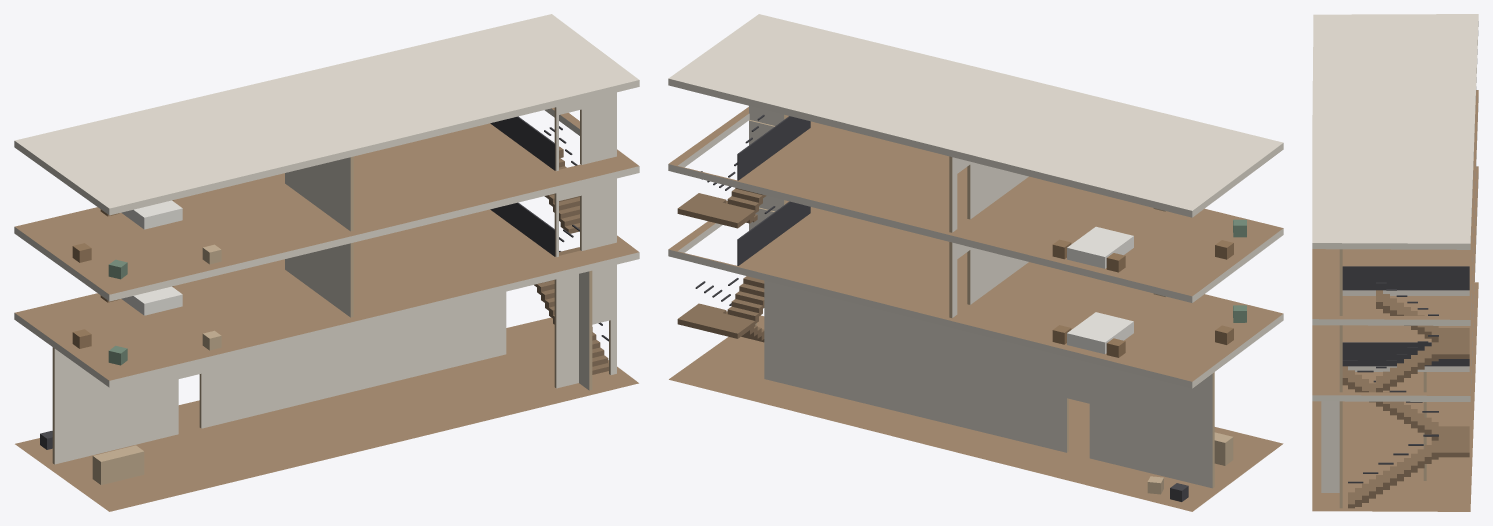
File: interior.glb
3 renders of one model, left to right at view 1: azimuth 30°, elevation 25°; view 2: azimuth 150°, elevation 25°; view 3: azimuth 270°, elevation 25°, orthographic. The views are drawn at different scales.
Visible parts, largest first — view 1: slabs, partitions, stair, coarse-s2, coarse-s1, coarse-s0; view 2: slabs, partitions, stair, coarse-s2, coarse-s1, coarse-s0; view 3: slabs, stair, partitions.
Part boxes in pixels (x1,y1,x2,y2): slabs: [14, 14, 639, 511]; partitions: [52, 92, 616, 464]; stair: [490, 116, 608, 374]; coarse-s2: [72, 200, 221, 279]; coarse-s1: [72, 286, 221, 365]; coarse-s0: [40, 431, 144, 485]; slabs: [668, 14, 1283, 511]; partitions: [749, 106, 1214, 488]; stair: [677, 114, 810, 342]; coarse-s2: [1052, 208, 1246, 272]; coarse-s1: [1052, 293, 1246, 357]; coarse-s0: [1147, 432, 1233, 501]; slabs: [1312, 14, 1478, 511]; stair: [1342, 266, 1469, 508]; partitions: [1321, 249, 1426, 508].
Bounding box in the file's own units: 21.06 × 11.48 × 6.45.
